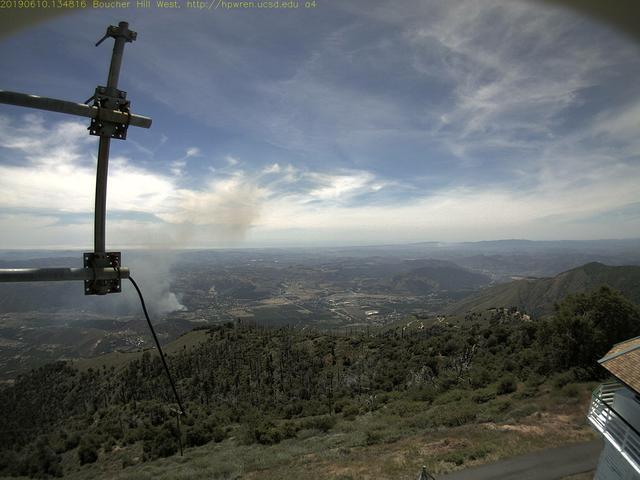smoke: (127, 198, 252, 314)
